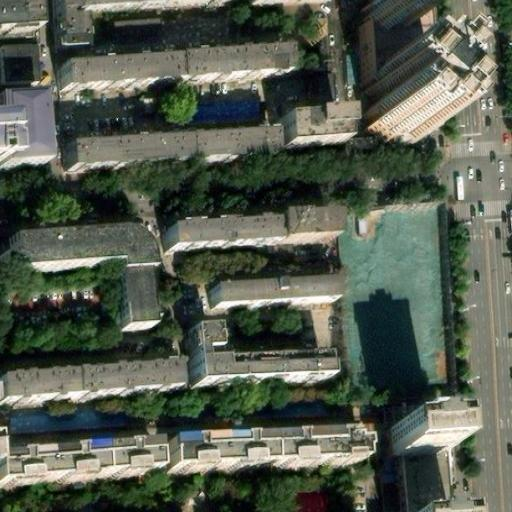building: (64, 47, 295, 96), (359, 76, 443, 189), (68, 125, 269, 169), (170, 426, 368, 465), (0, 361, 172, 401), (0, 437, 158, 475), (12, 230, 150, 272), (192, 350, 333, 387), (0, 408, 139, 436), (216, 270, 339, 298), (2, 84, 46, 156), (172, 216, 286, 243), (361, 0, 412, 46), (385, 424, 441, 464), (280, 119, 341, 152), (115, 266, 146, 322), (256, 0, 331, 23), (285, 213, 339, 242), (52, 13, 80, 54), (190, 331, 219, 360)
